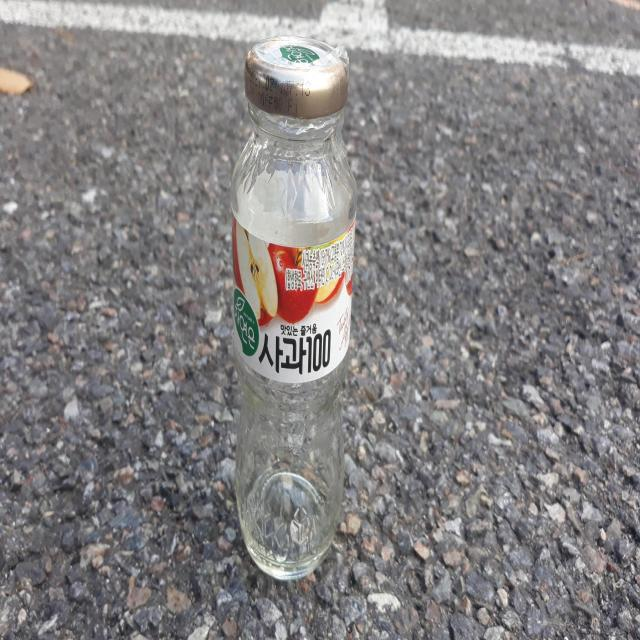glass: (231, 36, 357, 580)
